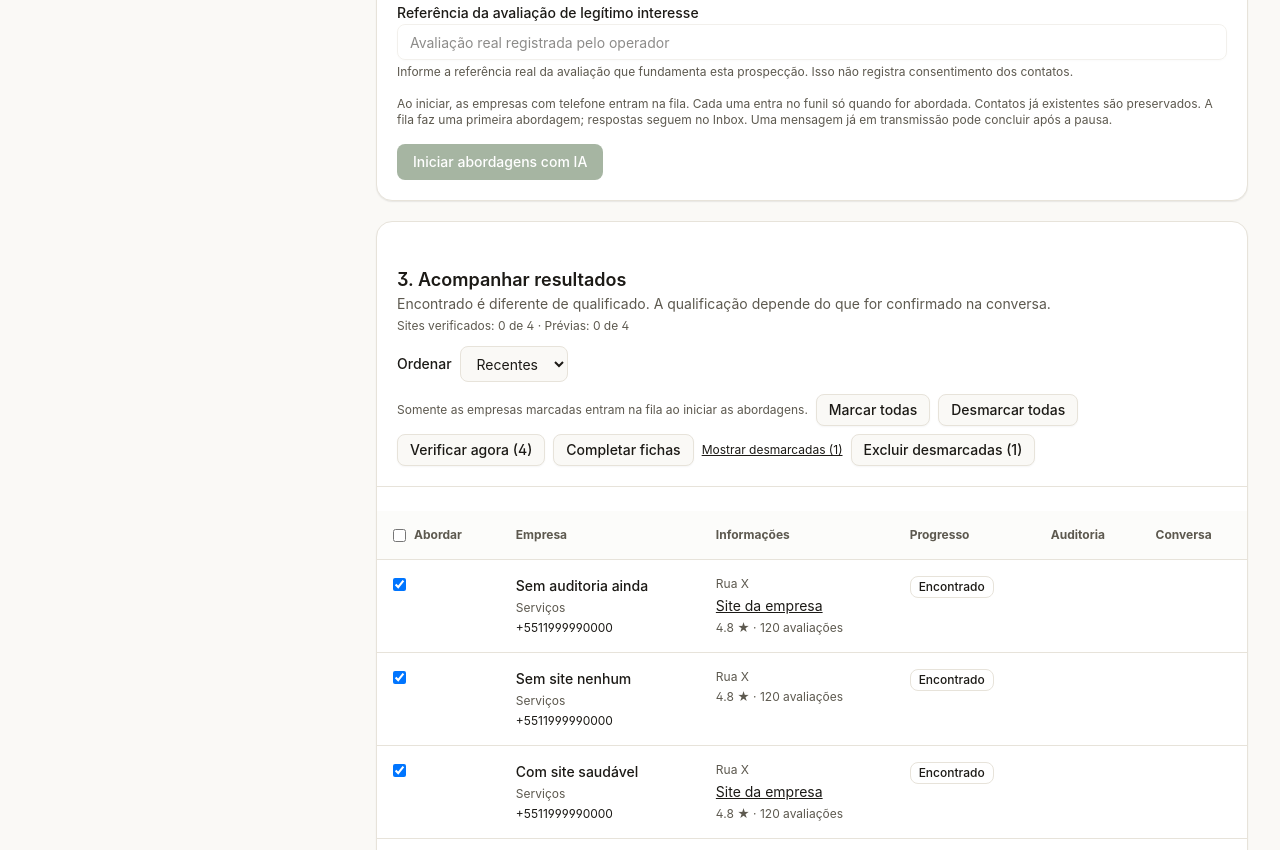
Test: Completar fichas: o botão ao lado de Verificar agora › com fichas sobrando, pede para clicar de novo
This screenshot has width=1280, height=850.
(page scrolled)
Click the button "Completar fichas" at (624, 450), box [553,434,694,466]
(page scrolled)
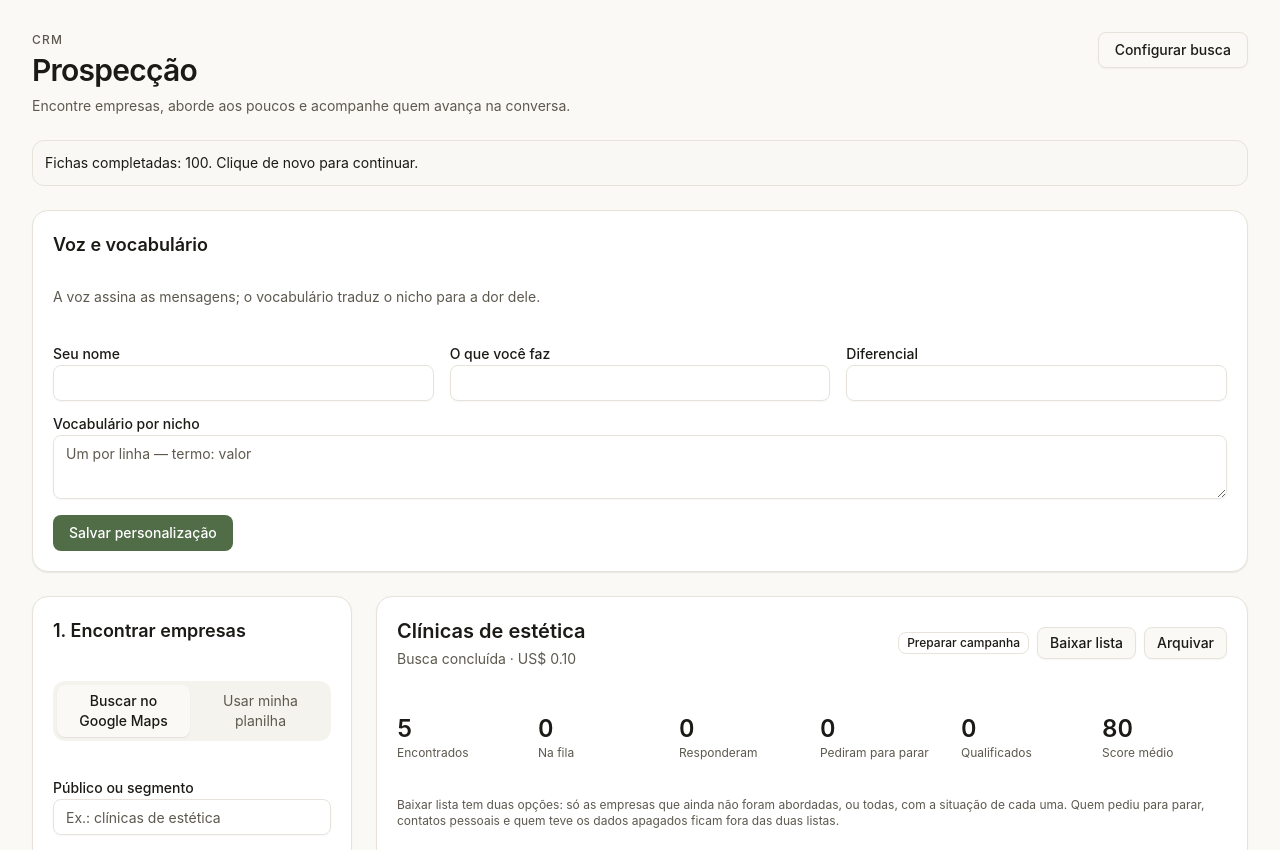
Check: the text "Fichas completadas: 100. Clique de novo para continuar." is shown, box [32,140,1248,186]
